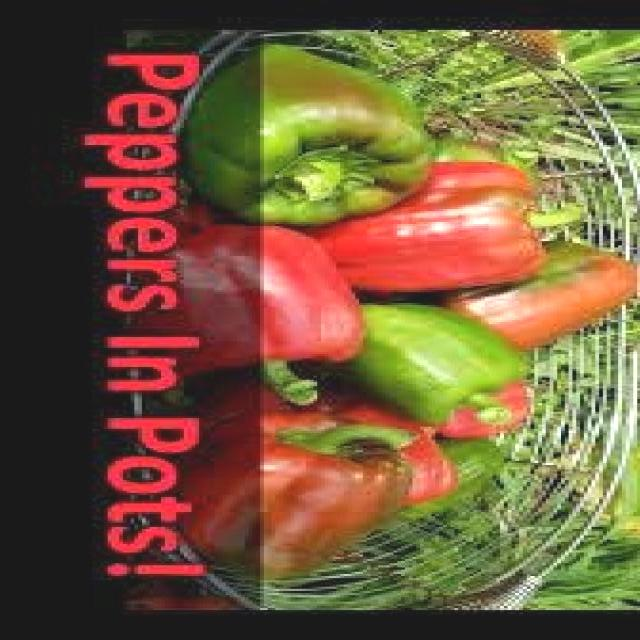bell_pepper: (331, 299, 540, 433)
